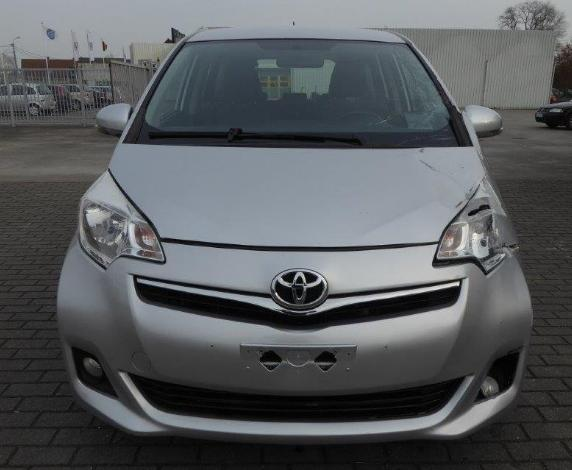Broken part: (436, 178, 517, 271), (242, 344, 356, 374), (474, 346, 523, 404)
Missing part: (242, 346, 356, 374)
Scratch: (455, 186, 476, 210), (417, 159, 439, 172), (418, 148, 426, 154), (460, 166, 464, 170)
